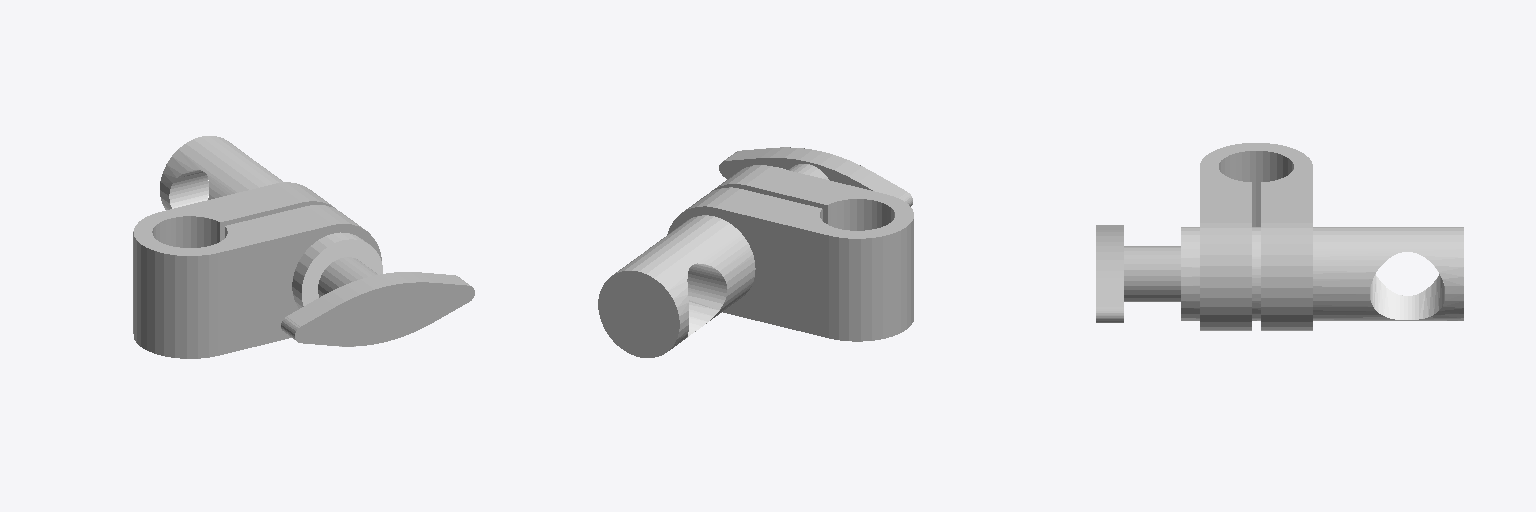
Rendered from Rotator1a.obj.
3 views of the same model, side by side, from view 1: azimuth 30°, elevation 25°; view 2: azimuth 150°, elevation 25°; view 3: azimuth 270°, elevation 25° (orthographic).
Visible parts, largest first — view 1: _1_DC_Shell, NONE_DC_Shell; view 2: _1_DC_Shell, NONE_DC_Shell; view 3: NONE_DC_Shell, _1_DC_Shell.
Part boxes in pixels (x1,y1,x2,y2): _1_DC_Shell: (133,182,381,358); NONE_DC_Shell: (160,136,474,346); _1_DC_Shell: (667,165,913,341); NONE_DC_Shell: (598,147,912,357); NONE_DC_Shell: (1096,225,1463,322); _1_DC_Shell: (1200,143,1312,330).
Bounding box in the file's own units: 15.5 × 6 × 19.5.